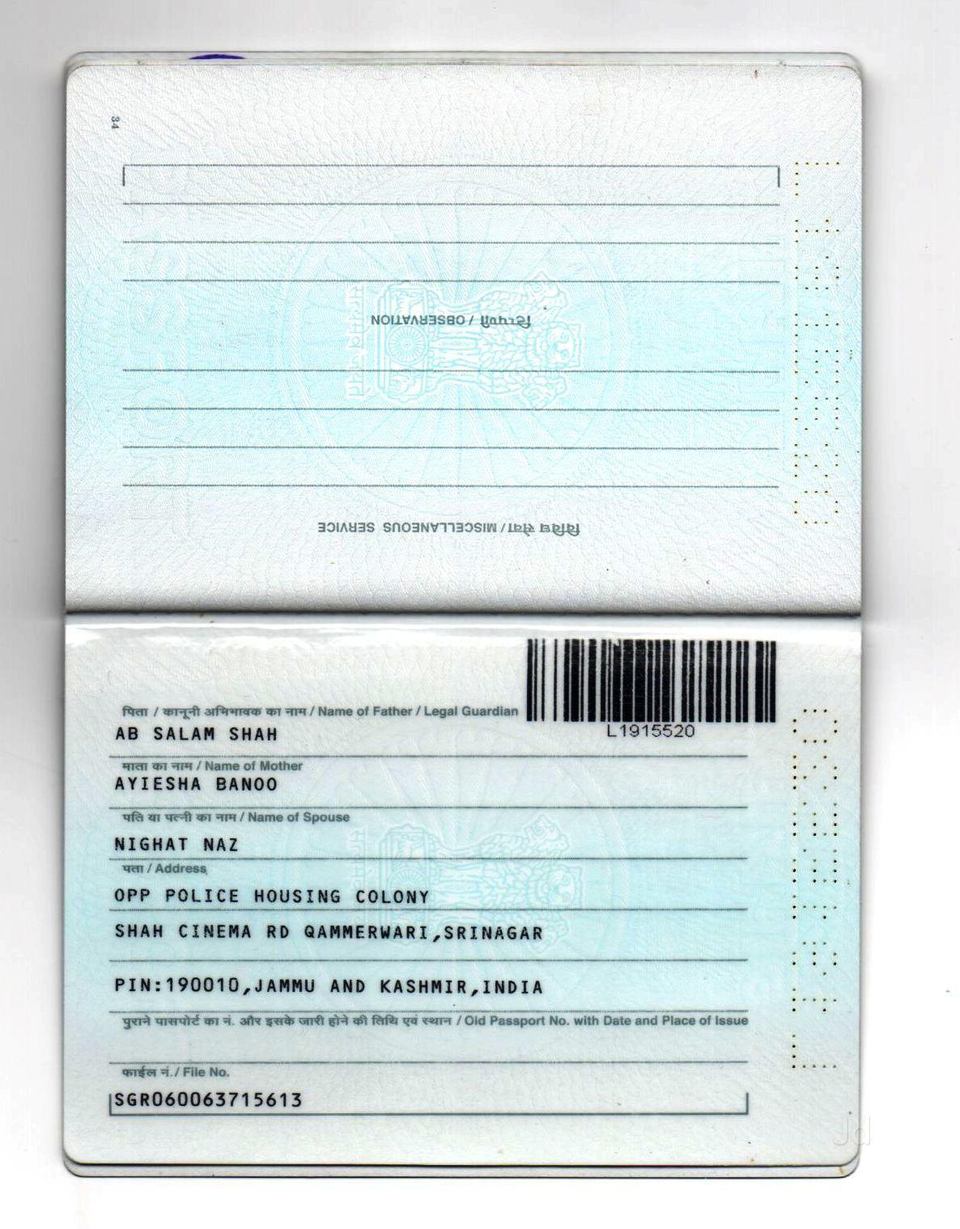File_no: (103, 1090, 314, 1114)
address: (101, 881, 557, 1008)
father_name: (101, 720, 284, 750)
mother_name: (103, 769, 295, 798)
passport_no: (596, 722, 700, 740)
spouse_name: (107, 828, 248, 859)
